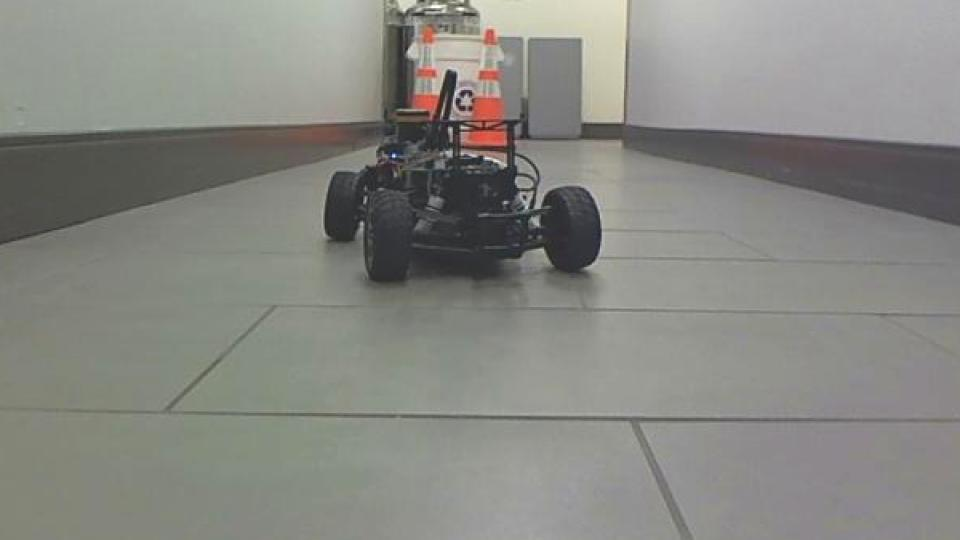car: (318, 68, 605, 284)
